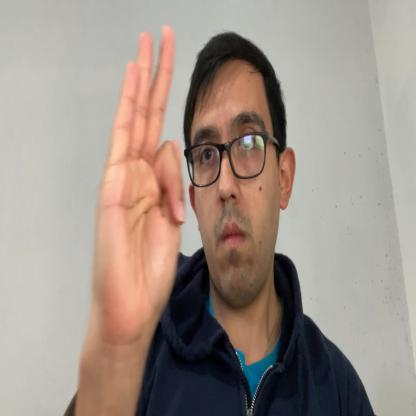F: (92, 25, 185, 342)
